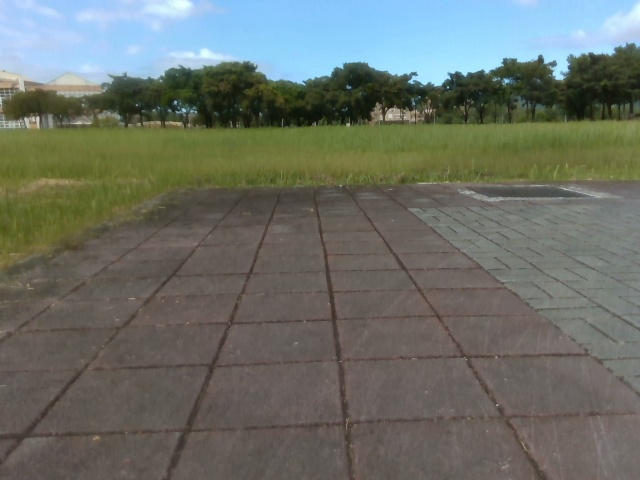grass: (0, 117, 639, 284), (0, 43, 639, 128)
road: (0, 197, 303, 350), (344, 194, 596, 332), (200, 323, 373, 479), (409, 432, 563, 479), (537, 185, 639, 254), (421, 357, 482, 409)
sidewalk: (0, 200, 639, 479)
